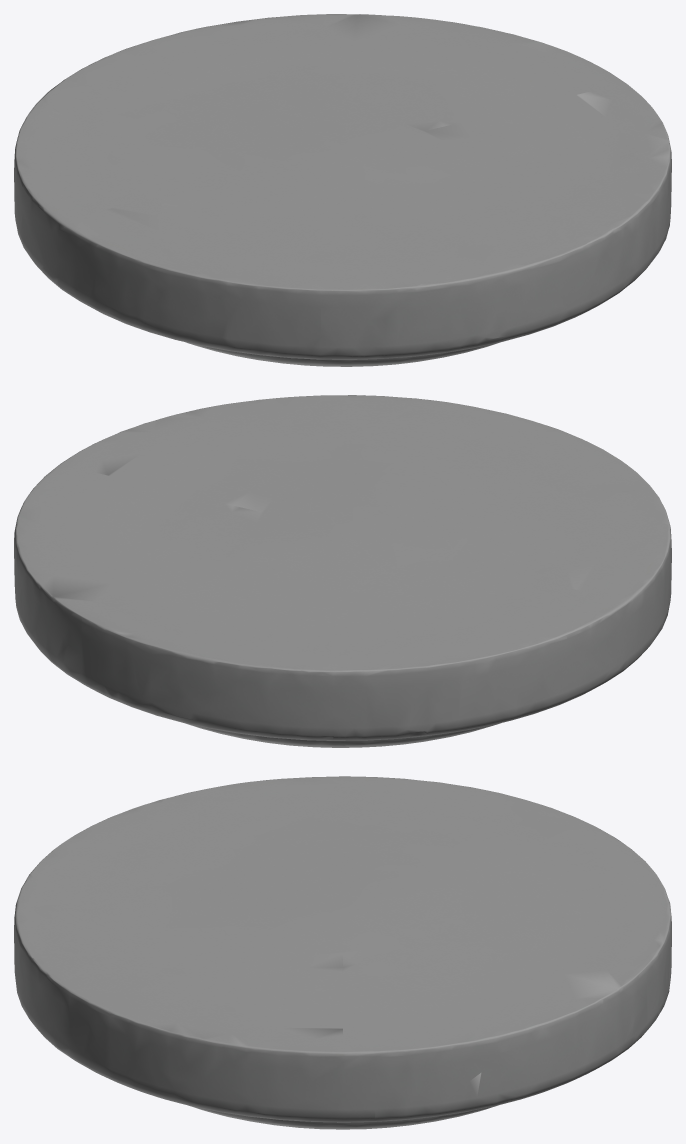
Rendered from LightModel.fbx.
3 views of the same model, one above another, from view 1: azimuth 30°, elevation 25°; view 2: azimuth 150°, elevation 25°; view 3: azimuth 270°, elevation 25° (orthographic).
Parts seen in each view (by area): view 1: tripo_node_d263a469; view 2: tripo_node_d263a469; view 3: tripo_node_d263a469.
Part boxes in pixels (x1,y1,x2,y2): tripo_node_d263a469: (14,14,671,366); tripo_node_d263a469: (14,395,671,747); tripo_node_d263a469: (14,776,671,1129).
Size of the model in its own units: 1 by 0.2723 by 0.9999.
Materials: 1 (1 with a texture image).
